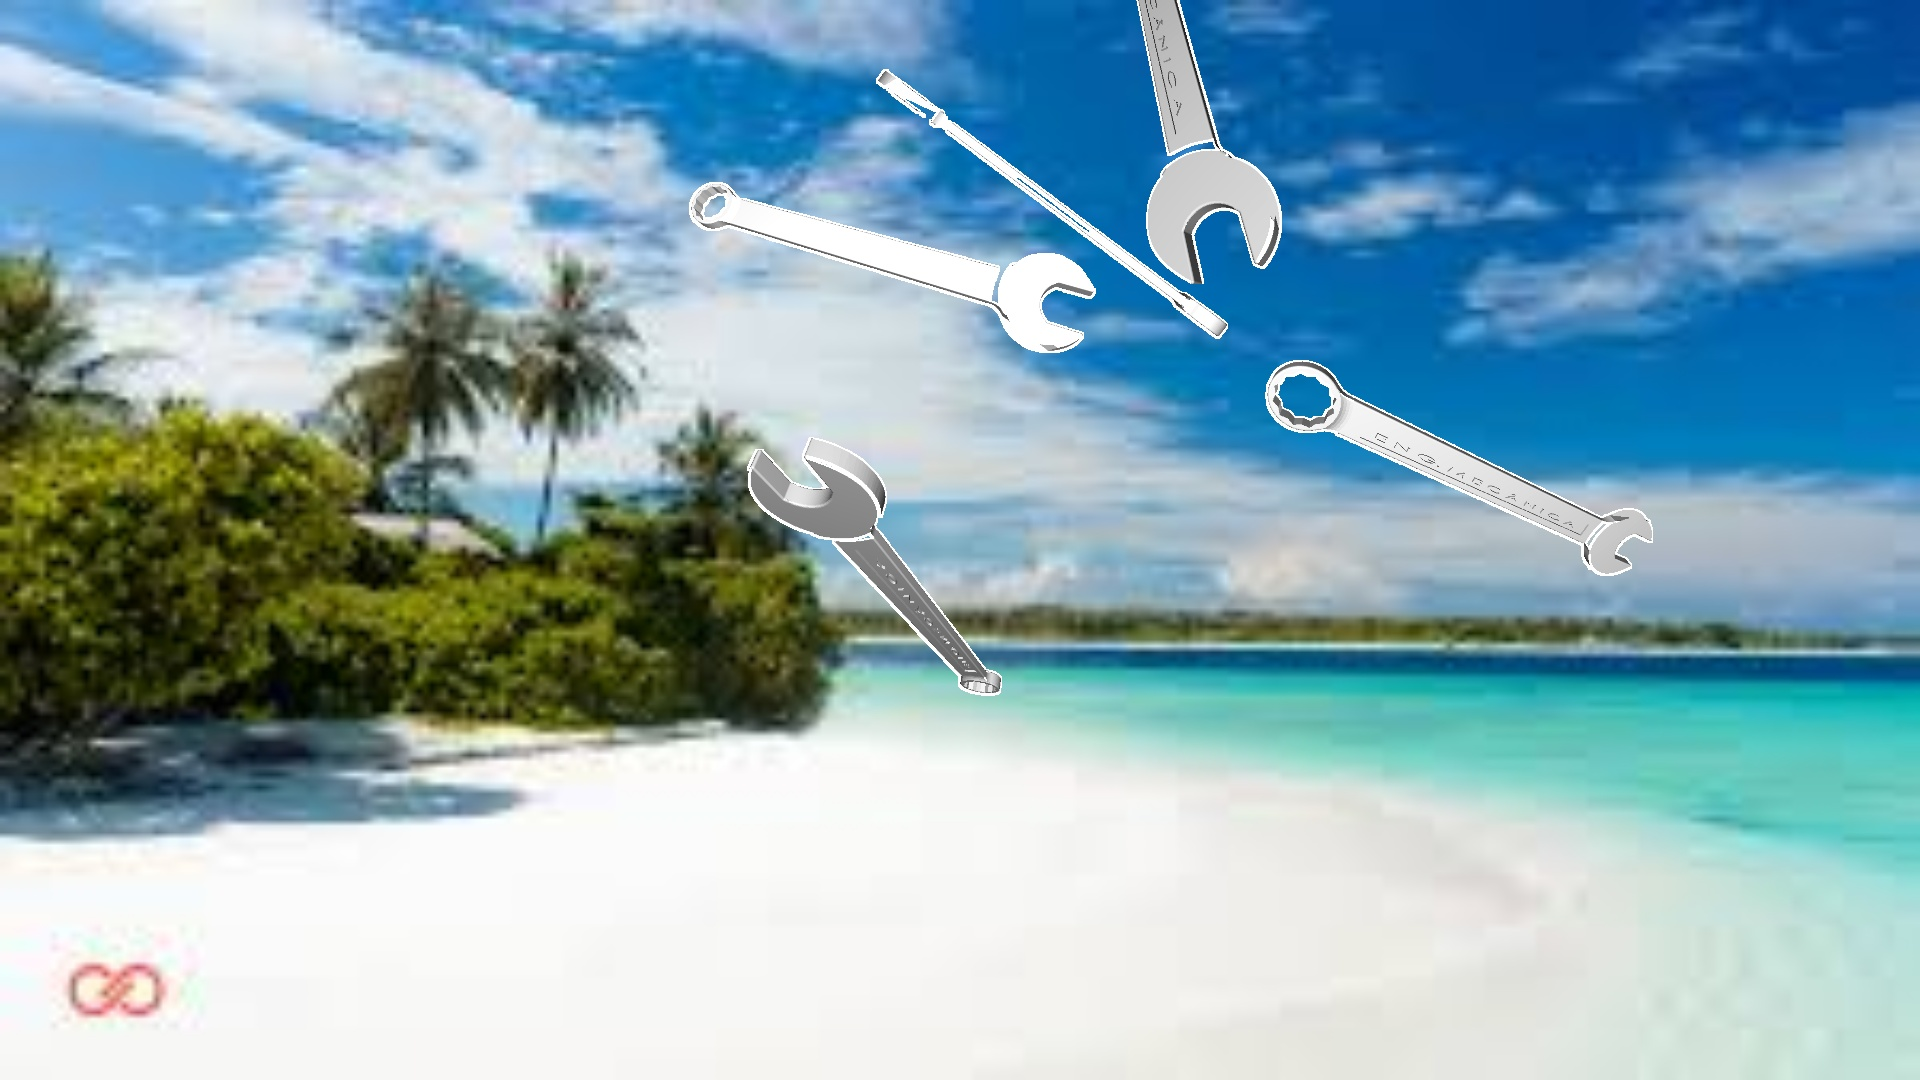Mixed Key: (876, 69, 1226, 338), (1265, 360, 1652, 575), (688, 182, 1095, 352), (746, 436, 1001, 695), (1135, 0, 1280, 284)
